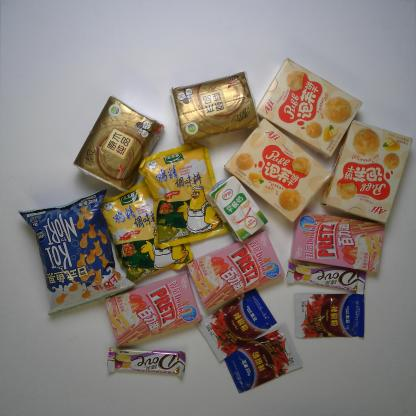Chocolate: (286, 256, 368, 296), (106, 346, 186, 378)
Dessert: (222, 116, 335, 223), (253, 57, 364, 160), (319, 118, 413, 225), (187, 230, 287, 309), (104, 272, 204, 348), (289, 211, 386, 273)
Milk: (204, 174, 270, 244)
Puffed Food: (16, 187, 142, 316)
Seasoner: (136, 136, 231, 250), (96, 182, 194, 285), (195, 287, 278, 363), (224, 328, 303, 393), (294, 292, 366, 339)
Tissue: (72, 94, 165, 193), (169, 70, 260, 147)
